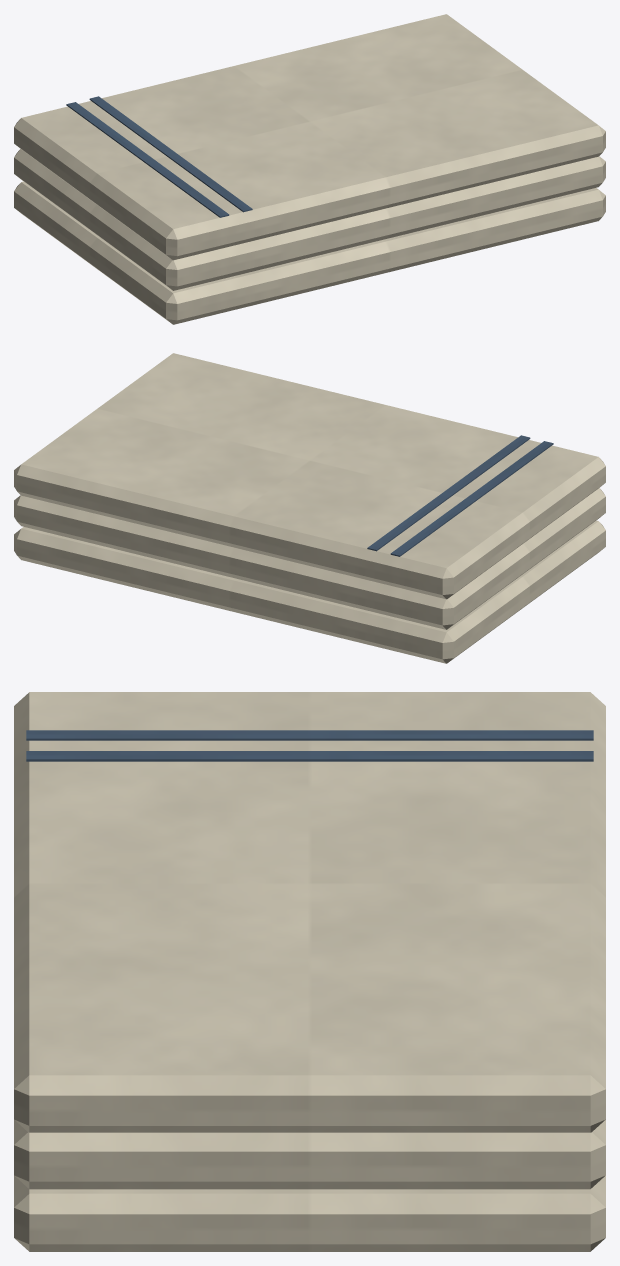
Rendered from folded_towel.glb.
3 renders of one model, top to bottom at view 1: azimuth 30°, elevation 25°; view 2: azimuth 150°, elevation 25°; view 3: azimuth 270°, elevation 25°, orthographic. The views are drawn at different scales.
Parts seen in each view (by area): view 1: folded_towel_Mesh; view 2: folded_towel_Mesh; view 3: folded_towel_Mesh.
Part boxes in pixels (x1,y1,x2,y2): folded_towel_Mesh: (14, 14, 605, 324); folded_towel_Mesh: (14, 353, 605, 663); folded_towel_Mesh: (14, 692, 605, 1251).
Bounding box in the file's own units: 0.38 × 0.0805 × 0.24.
Materials: 2 (2 with a texture image).
